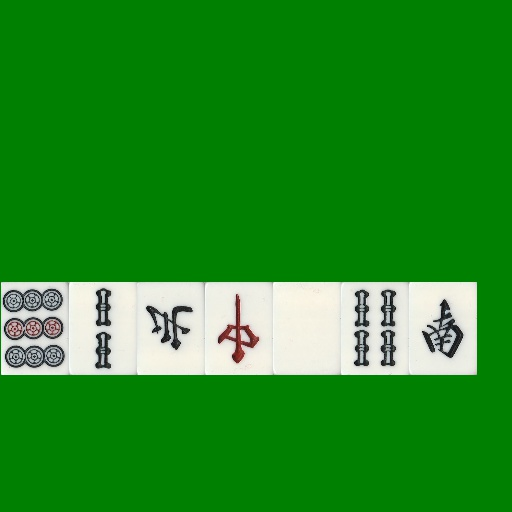2s: (69, 282, 137, 375)
4s: (341, 282, 409, 375)
9p: (1, 282, 69, 375)
north: (137, 282, 205, 375)
south: (409, 282, 477, 375)
tyun: (205, 282, 273, 375)
white: (273, 282, 341, 375)
